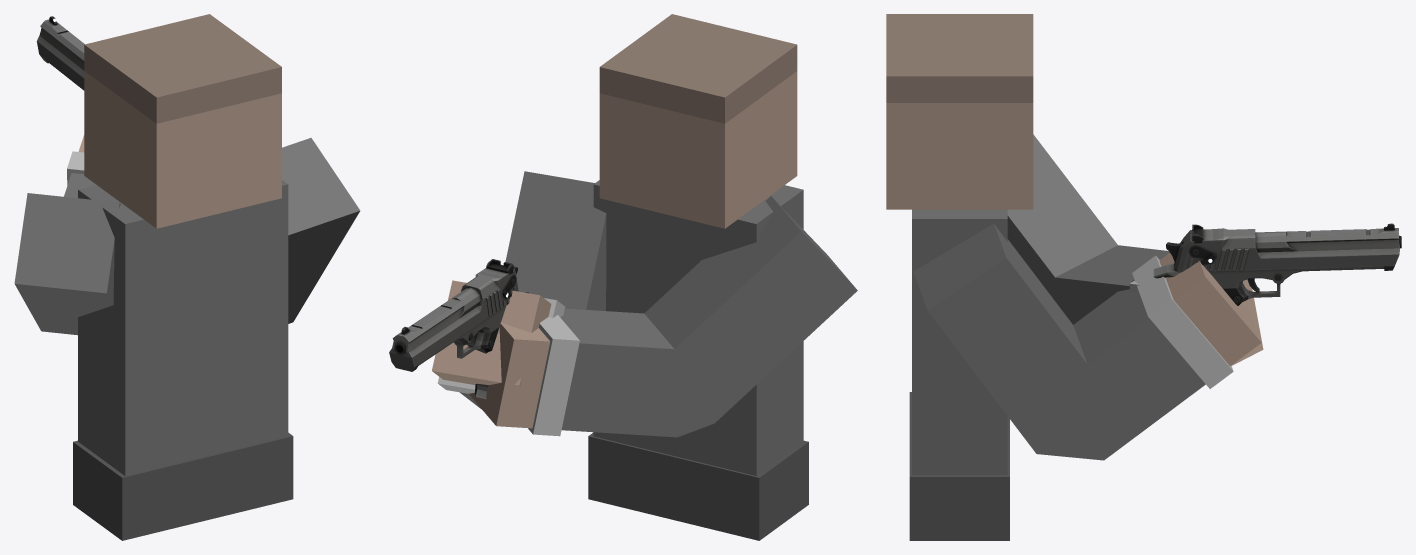
The model's file is Desert Eagle.gltf.
The picture shows the model from 3 angles, left to right: view 1: azimuth 30°, elevation 25°; view 2: azimuth 150°, elevation 25°; view 3: azimuth 270°, elevation 25°; orthographic projection.
Size of the model in its own units: 5.19 by 6.8 by 7.01.
Materials: 2 (1 with a texture image).
